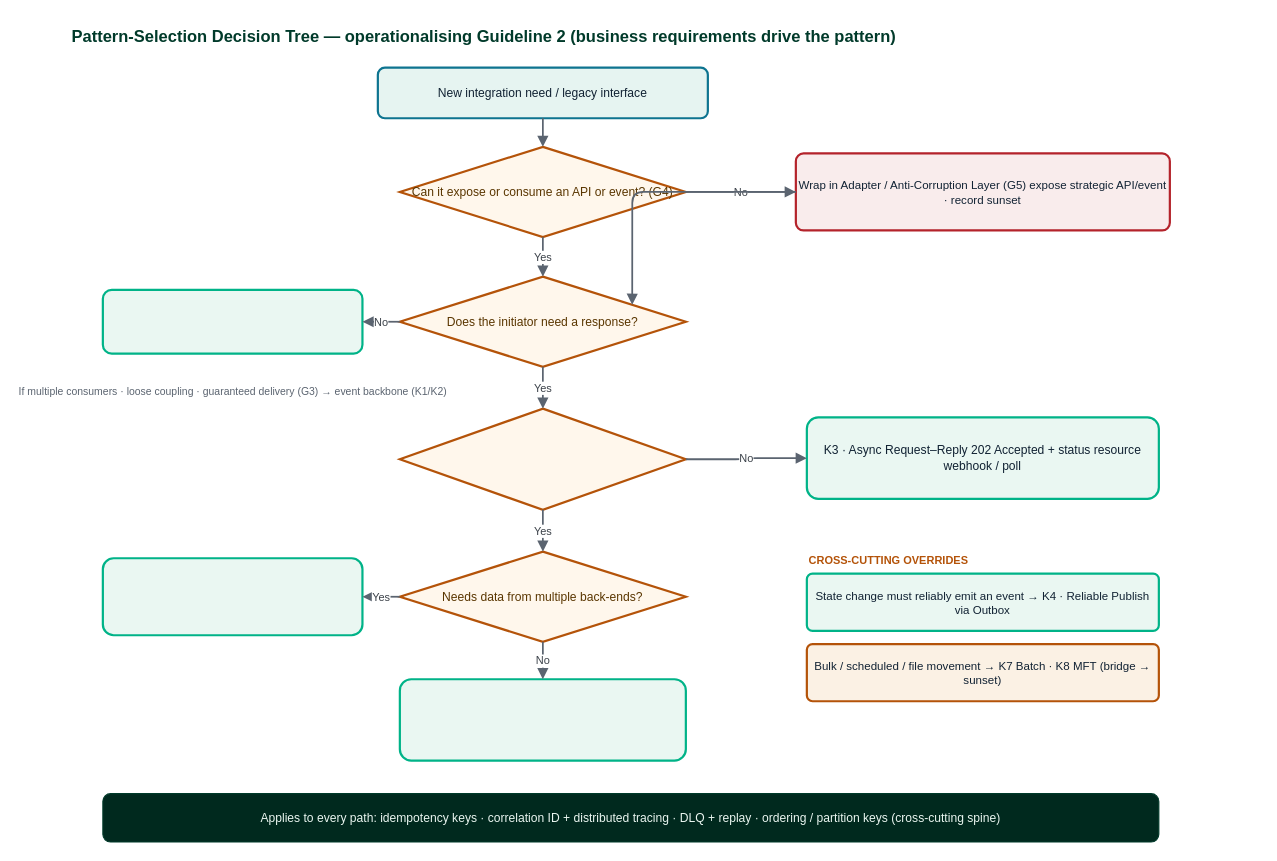
Image size: 1277x861. Some labels were removed from this diagram. Each missing label, with the centre of its shape:
"K1 · Async Event Publish (fire-and-forget)" goes at (x=232, y=321).
"K5 · Sync API API-First default, behind the gateway (G1)" goes at (x=542, y=719).
"K6 · Aggregated Read (CQRS read model, not live fan-out)" goes at (x=232, y=596).
"Response within an interactive budget (~≤2s) & caller blocks?" goes at (x=542, y=458).
